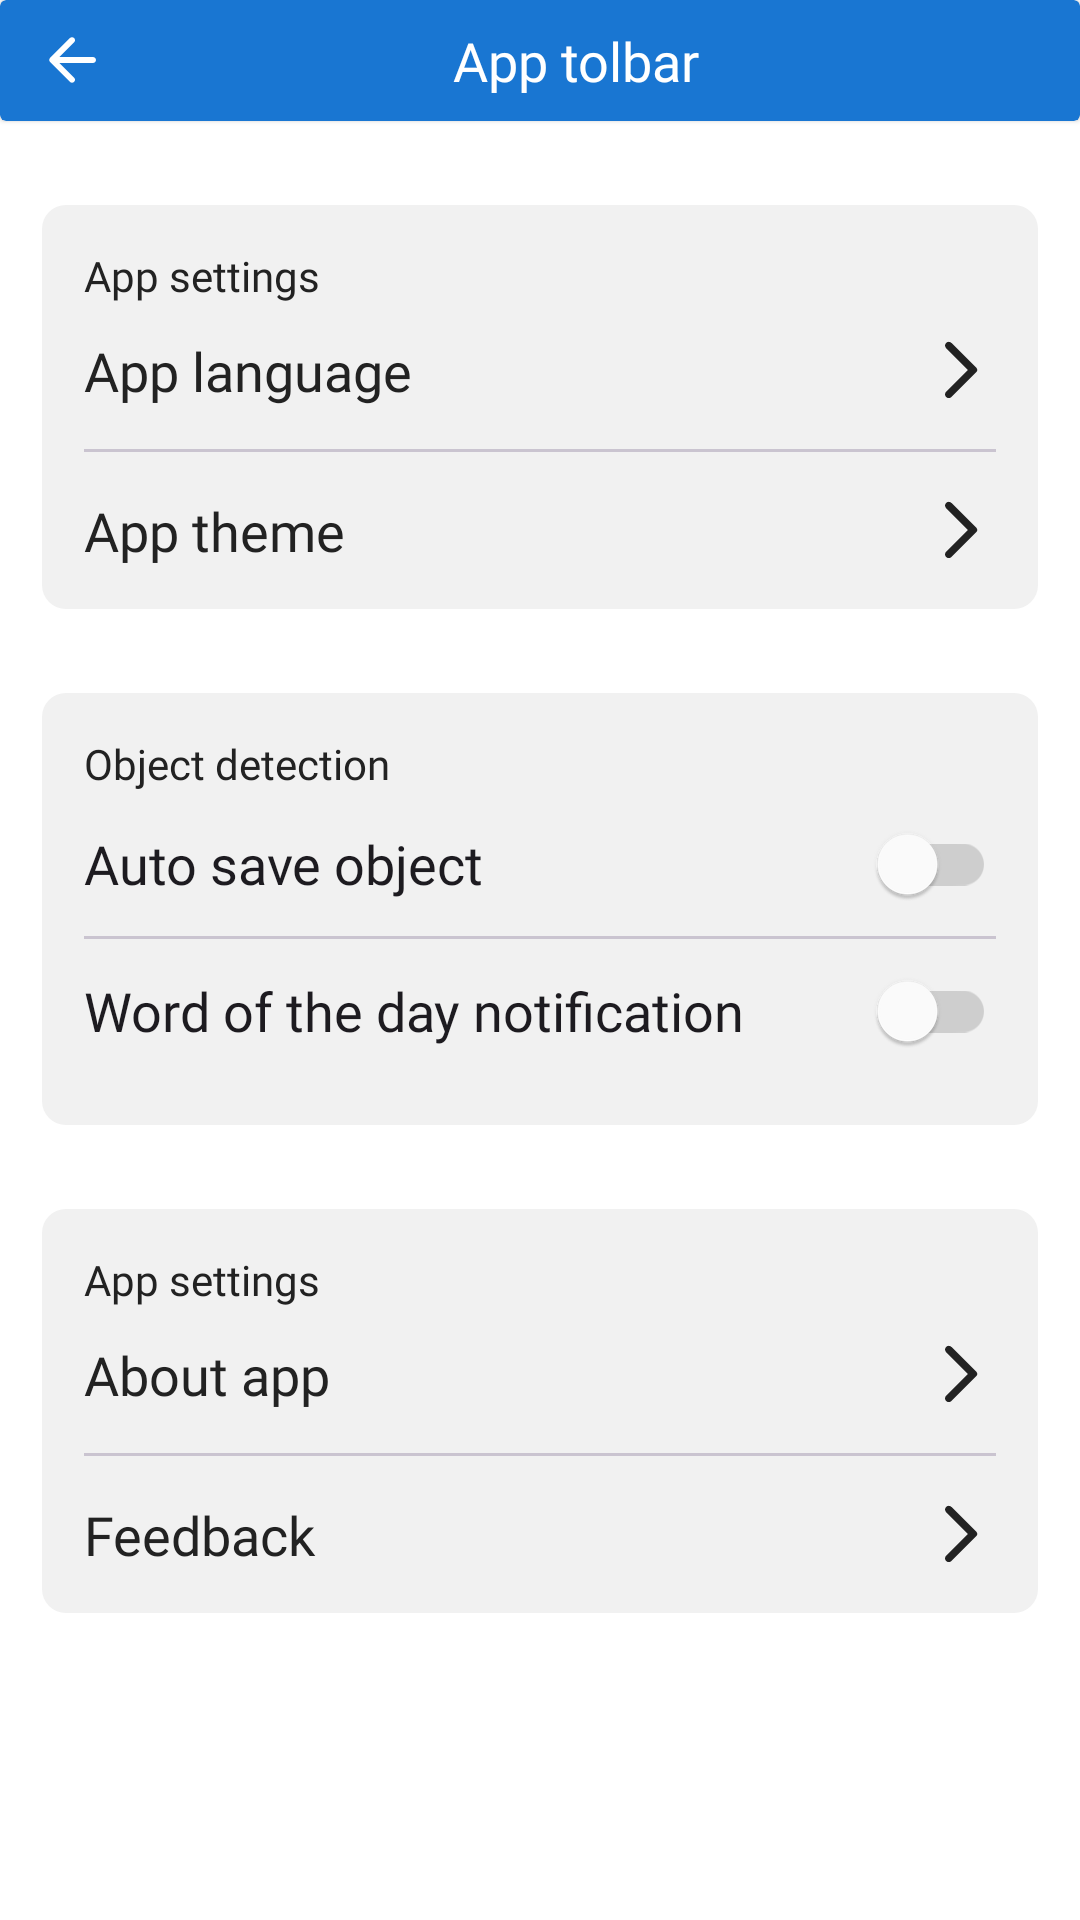

Where to tap for icons on this 1080*1920 app screen, as (x,y):
back: (72,60)
